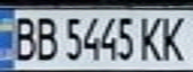4: (78, 14, 103, 62), (100, 14, 121, 62)
5: (115, 14, 139, 62), (60, 14, 84, 62)
B: (6, 12, 39, 62), (30, 14, 60, 62)
K: (157, 12, 193, 62), (136, 14, 166, 62)
